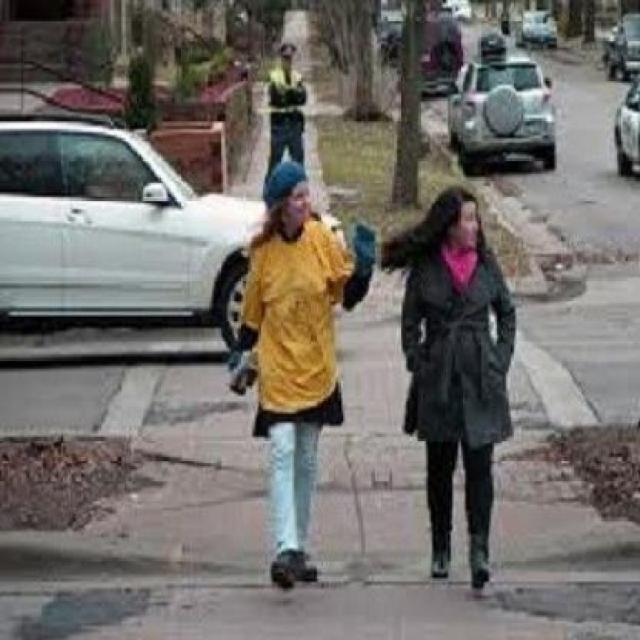Person: (236, 166, 376, 596), (397, 180, 517, 598), (258, 31, 324, 182)
